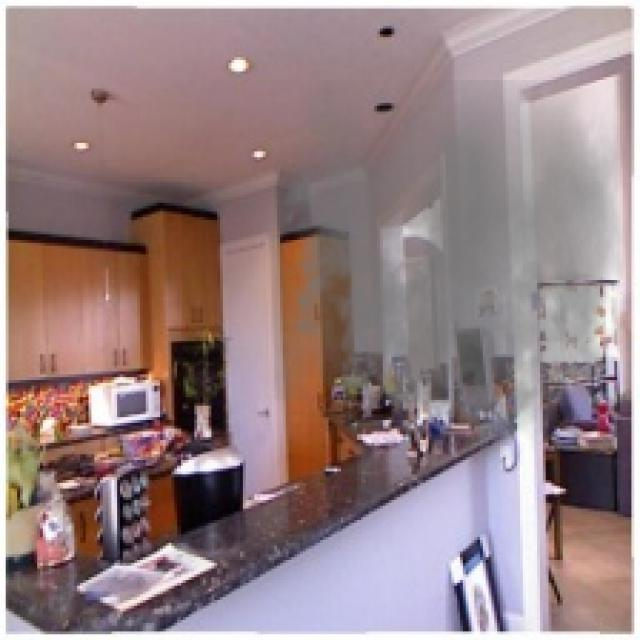Smoke: (272, 80, 628, 466)
